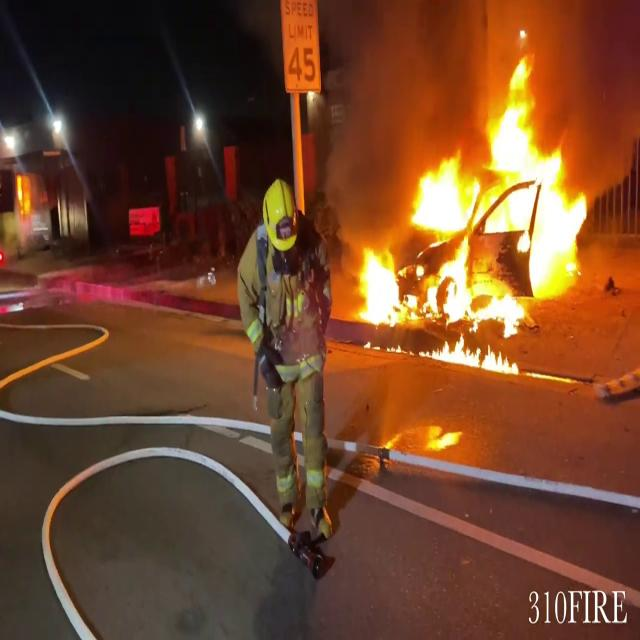Fire: (345, 48, 597, 372)
